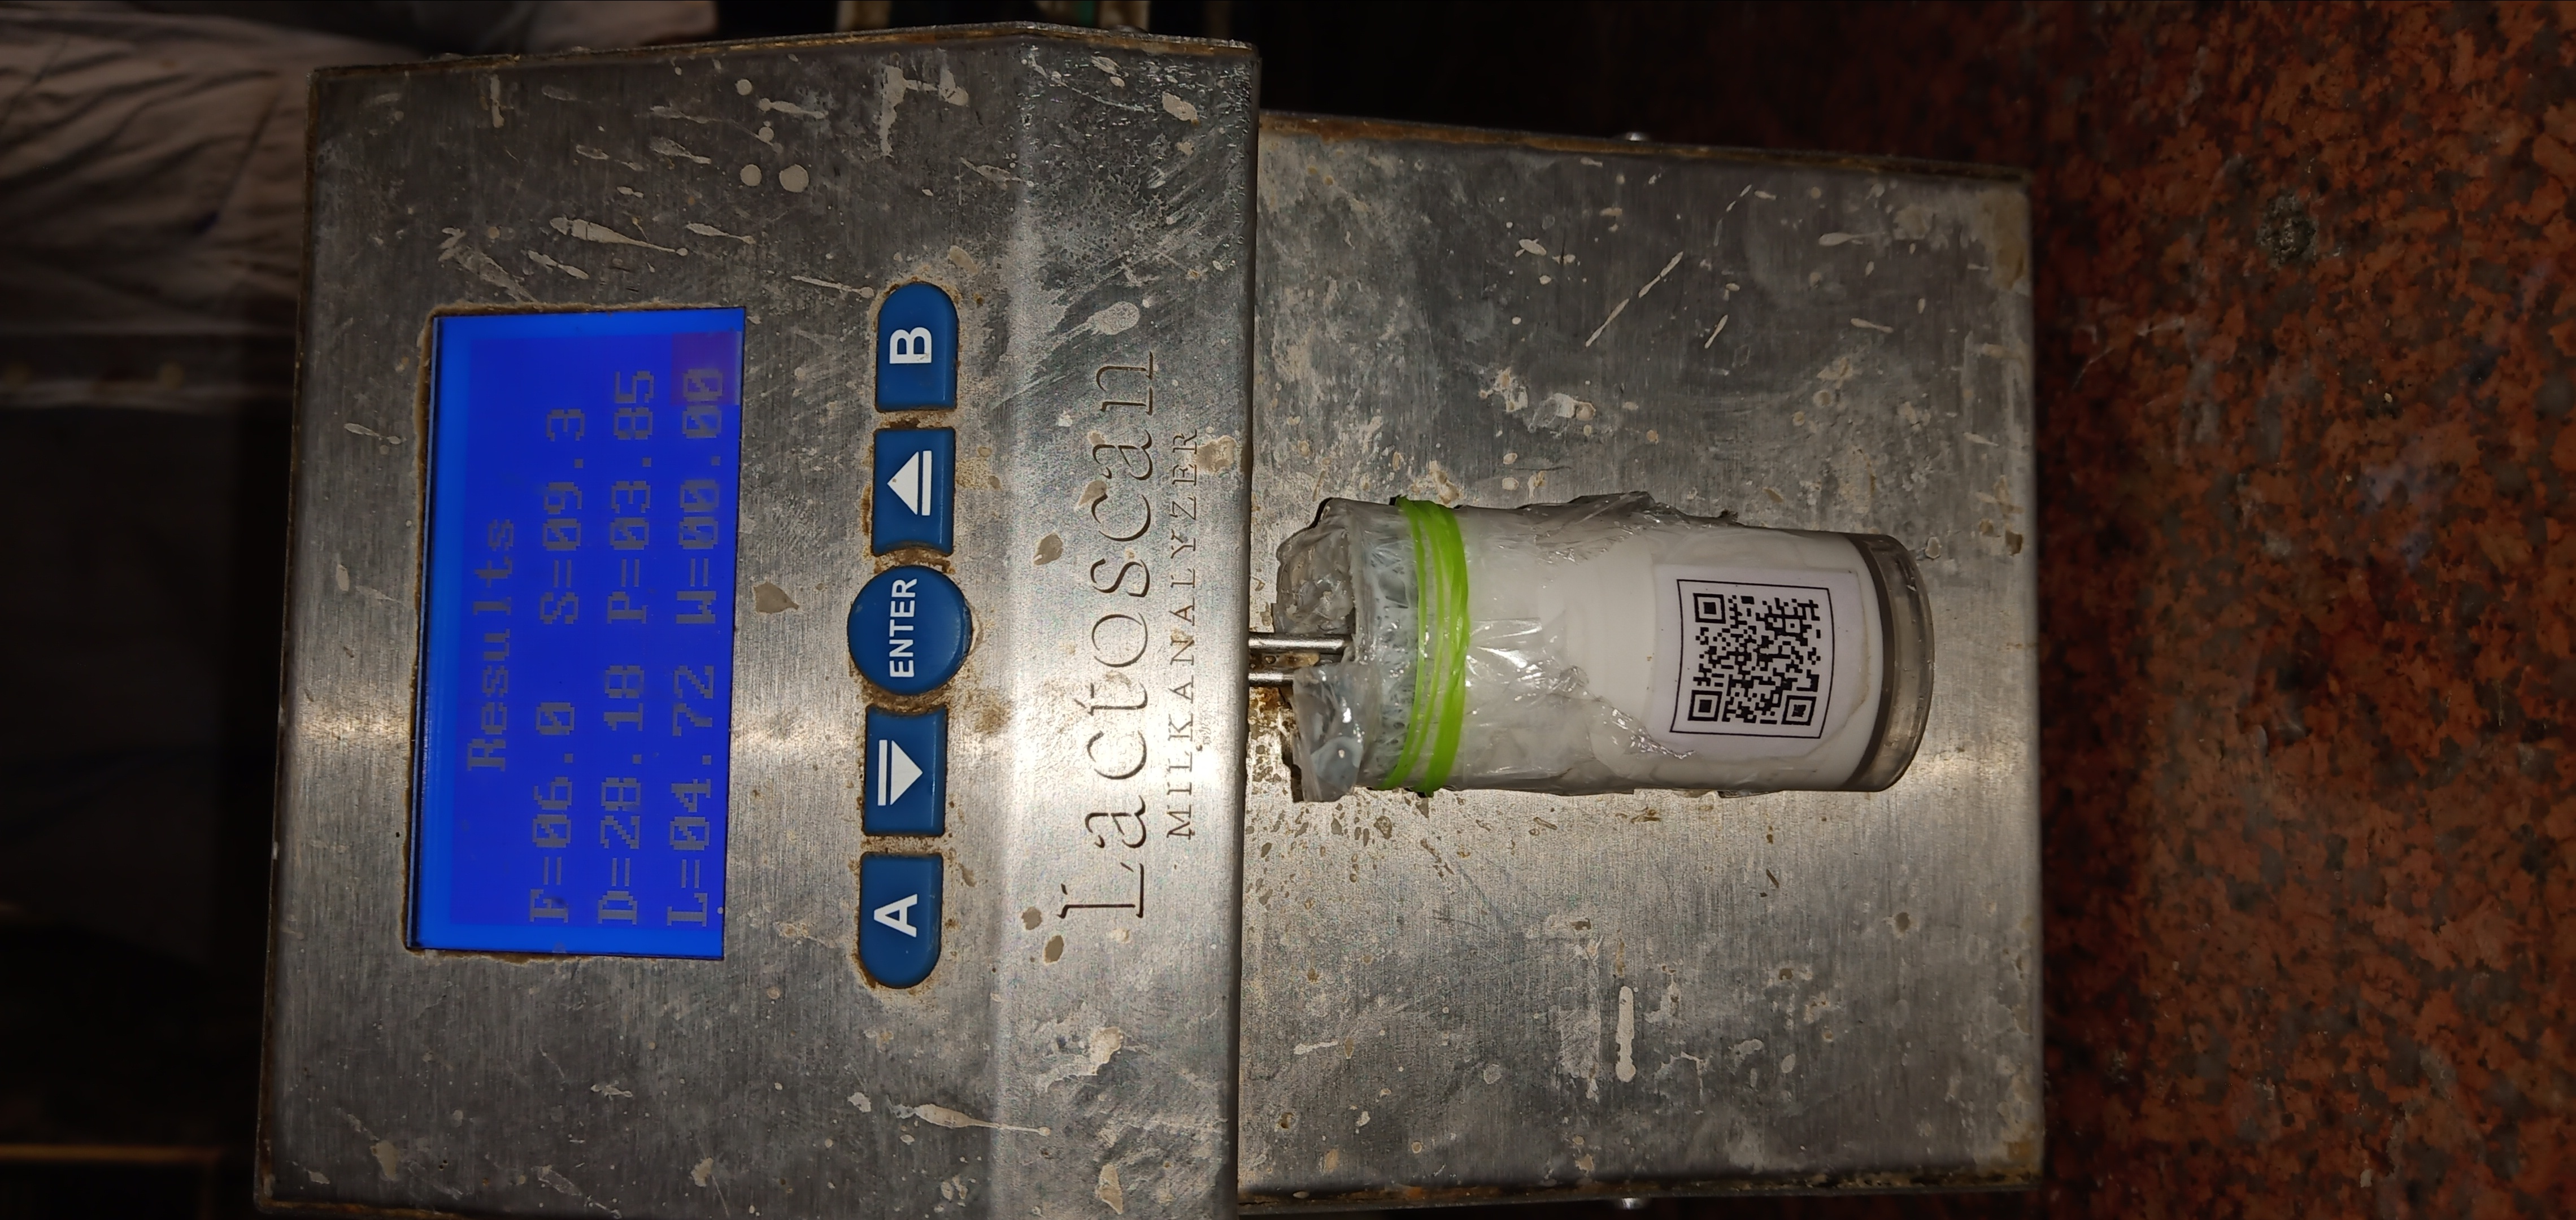lcd: (411, 271, 762, 987)
qr: (1669, 558, 1856, 757)
